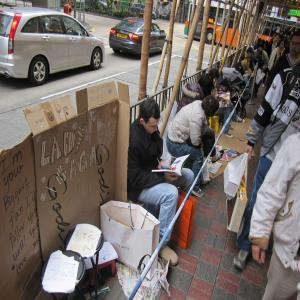Vehicle-registration-plate: (118, 33, 128, 39)
